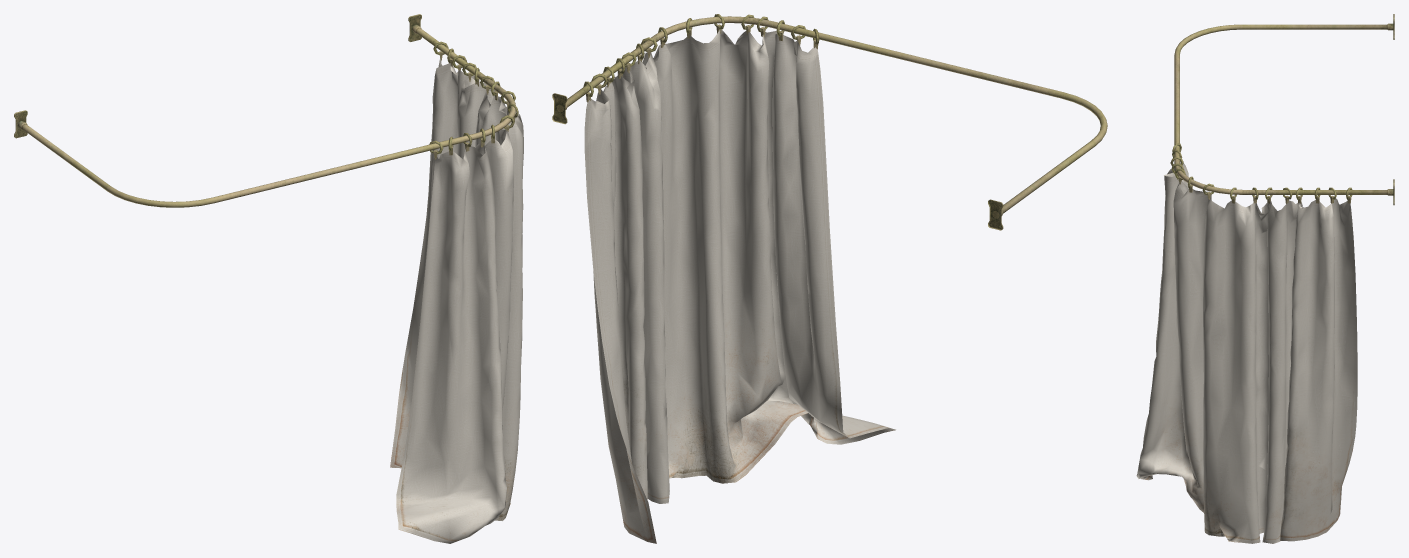
File: BathCurtain_A.FBX
3 renders of one model, left to right at view 1: azimuth 30°, elevation 25°; view 2: azimuth 150°, elevation 25°; view 3: azimuth 270°, elevation 25°, orthographic. The views are drawn at different scales.
Parts seen in each view (by area): view 1: BathCurtain_A_LOD0; view 2: BathCurtain_A_LOD0; view 3: BathCurtain_A_LOD0.
Part boxes in pixels (bbox=[...]): BathCurtain_A_LOD0: bbox=[14, 14, 523, 543]; BathCurtain_A_LOD0: bbox=[552, 14, 1107, 543]; BathCurtain_A_LOD0: bbox=[1136, 14, 1394, 543].
Size of what is drawn, in the model's own units: 190 by 184 by 119.
